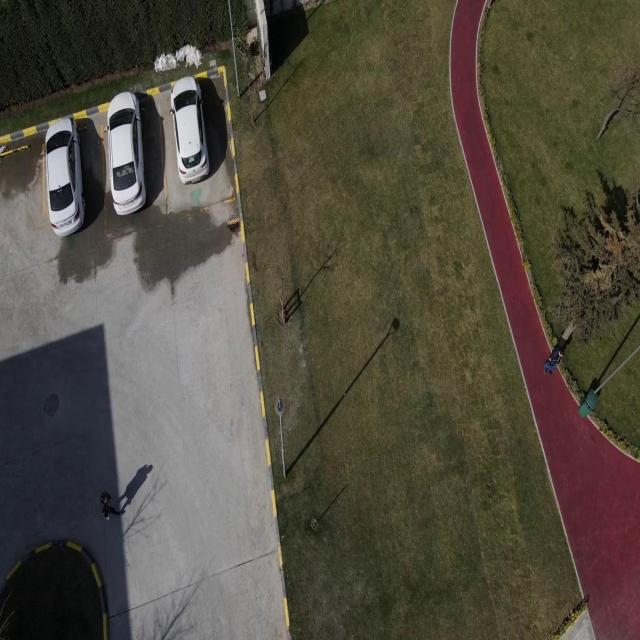p3rson: (100, 491, 123, 520), (543, 345, 564, 376)
